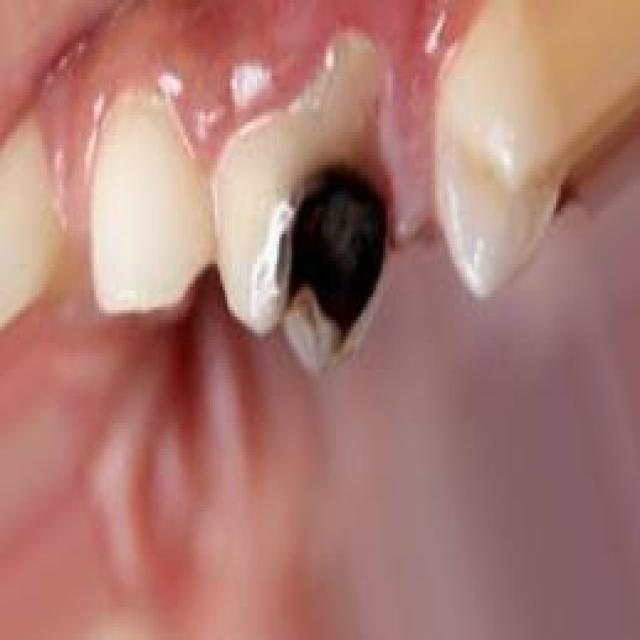caries: (222, 114, 408, 355)
